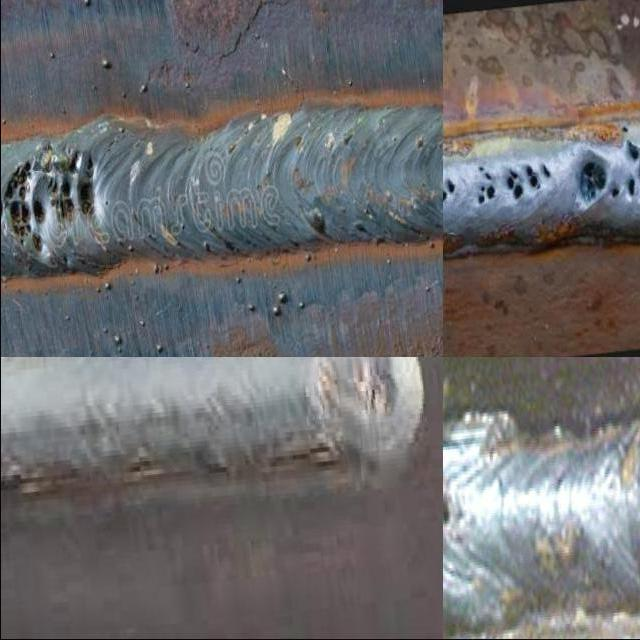defect: (575, 121, 640, 208), (0, 160, 48, 255), (45, 149, 98, 222), (475, 163, 498, 210), (503, 169, 523, 206), (442, 483, 455, 539), (525, 163, 541, 194), (442, 179, 460, 206), (541, 163, 552, 181)
